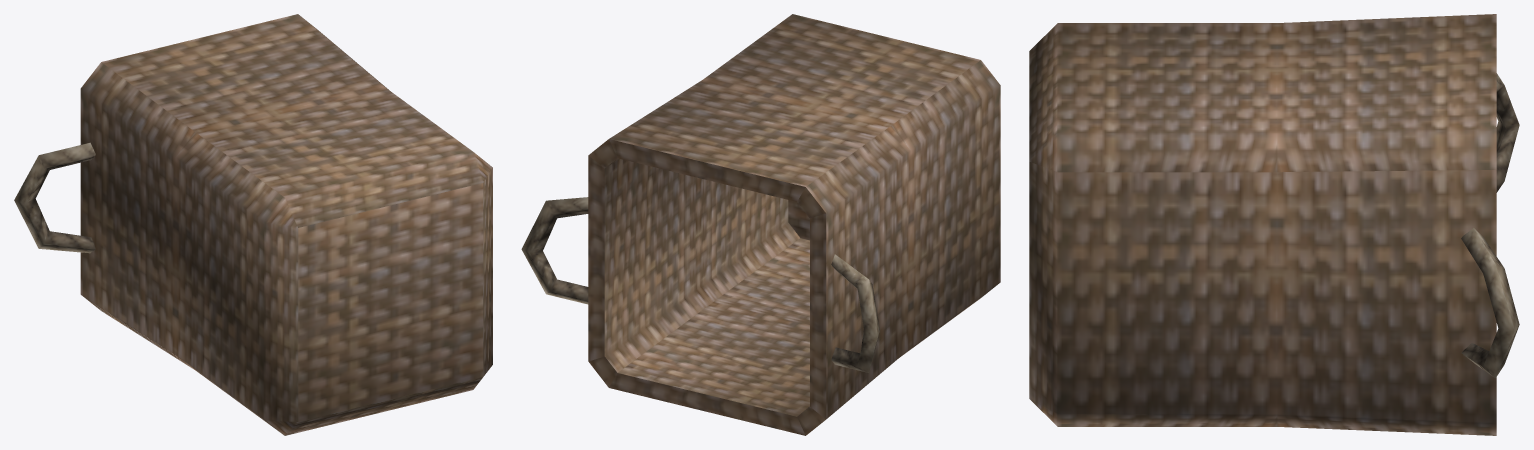
The model's file is Basket_Square_C.fbx.
3 views of the same model, side by side, from view 1: azimuth 30°, elevation 25°; view 2: azimuth 150°, elevation 25°; view 3: azimuth 270°, elevation 25° (orthographic). The views are drawn at different scales.
Parts seen in each view (by area): view 1: Basket_Square_C; view 2: Basket_Square_C; view 3: Basket_Square_C.
Boxes of the visible parts, <box> form: Basket_Square_C: <box>14,14,492,435</box>; Basket_Square_C: <box>521,14,1000,435</box>; Basket_Square_C: <box>1029,14,1519,435</box>.
Size of the model in its own units: 1.03 by 0.6903 by 1.01.
